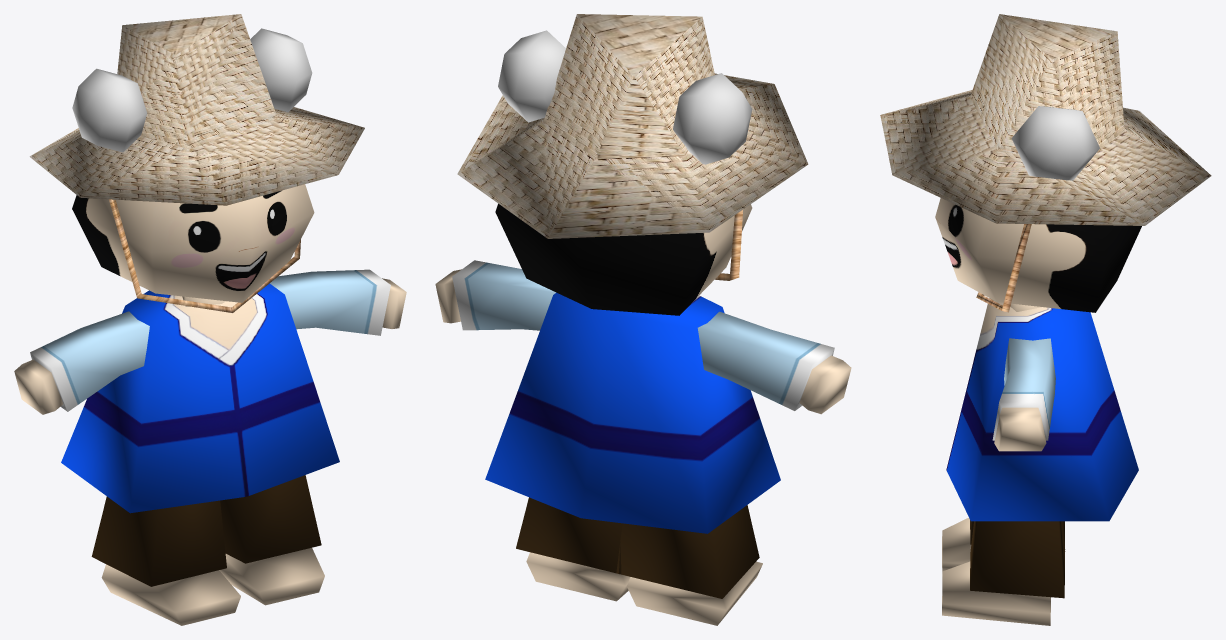
The model's file is Bobusang (2).fbx.
3 renders of one model, left to right at view 1: azimuth 30°, elevation 25°; view 2: azimuth 150°, elevation 25°; view 3: azimuth 270°, elevation 25°, orthographic. The views are drawn at different scales.
Parts seen in each view (by area): view 1: Body, Hat, Head, Left_arm.002, Left_arm.001, Left_arm, Right_arm, Sphere, Sphere.001; view 2: Body, Hat, Head, Left_arm.002, Left_arm, Left_arm.001, Right_arm, Sphere, Sphere.001; view 3: Hat, Body, Head, Left_arm.001, Right_arm, Sphere.001, Left_arm.002.
Boxes of the visible parts, bbox=[...] form: Body: bbox=[61, 283, 339, 513]; Hat: bbox=[29, 14, 364, 312]; Head: bbox=[72, 184, 314, 302]; Left_arm.002: bbox=[91, 496, 240, 625]; Left_arm.001: bbox=[219, 475, 324, 605]; Left_arm: bbox=[14, 311, 149, 414]; Right_arm: bbox=[270, 269, 406, 335]; Sphere: bbox=[72, 68, 147, 152]; Sphere.001: bbox=[250, 28, 312, 112]; Body: bbox=[485, 292, 780, 533]; Hat: bbox=[457, 14, 808, 280]; Head: bbox=[495, 203, 752, 315]; Left_arm.002: bbox=[616, 505, 762, 625]; Left_arm: bbox=[697, 311, 851, 414]; Left_arm.001: bbox=[516, 497, 630, 601]; Right_arm: bbox=[435, 260, 555, 330]; Sphere: bbox=[673, 73, 752, 164]; Sphere.001: bbox=[498, 30, 565, 122]; Hat: bbox=[880, 14, 1211, 312]; Body: bbox=[946, 298, 1138, 521]; Head: bbox=[935, 198, 1141, 312]; Left_arm.001: bbox=[942, 521, 1065, 625]; Right_arm: bbox=[992, 338, 1055, 451]; Sphere.001: bbox=[1011, 106, 1099, 180]; Left_arm.002: bbox=[942, 517, 1065, 574].
Bounding box in the file's own units: 28.54 × 39.66 × 21.75.
Materials: 2 (2 with a texture image).
